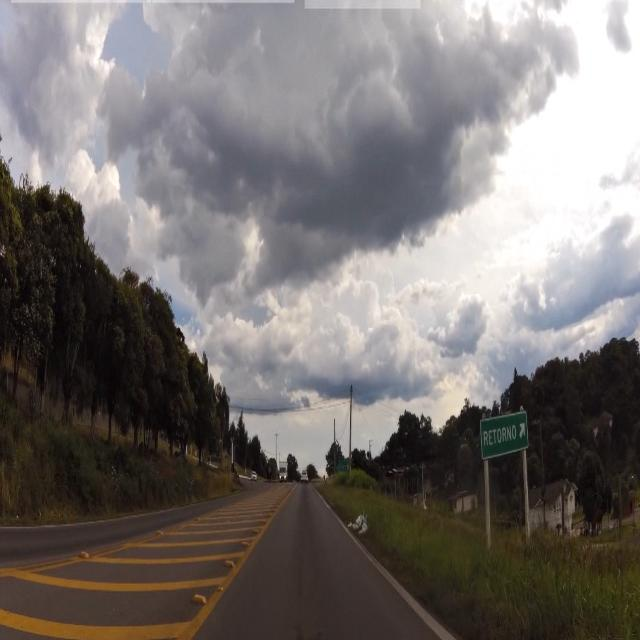I-4: (480, 412, 534, 458)
